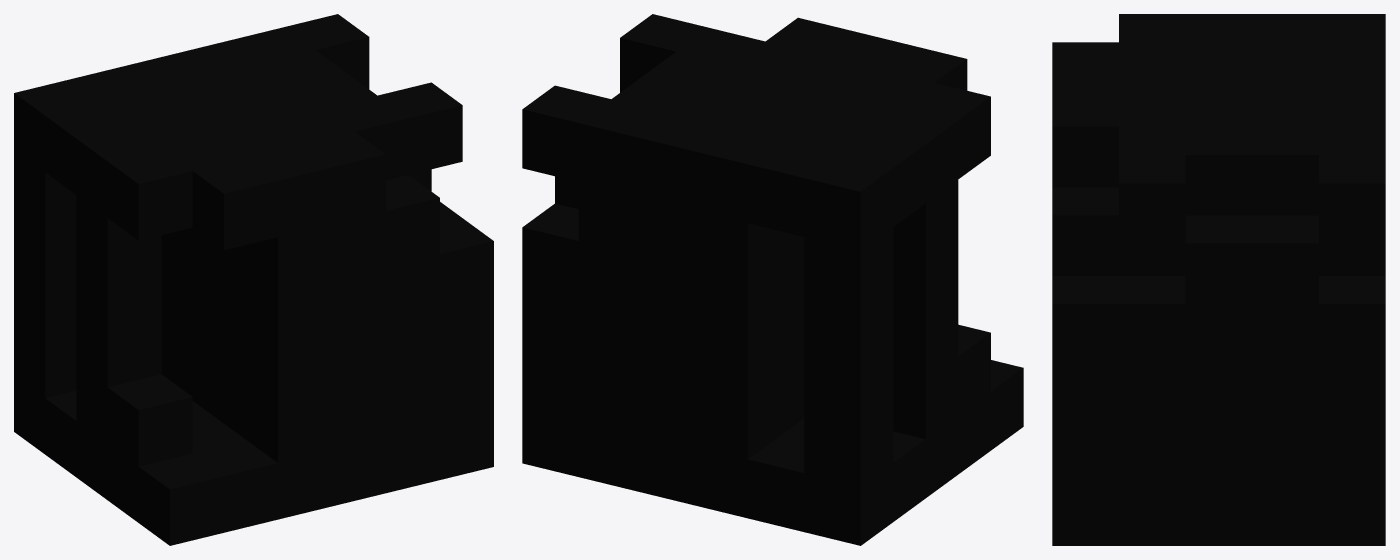
File: chaotic_right_boot.obj
3 renders of one model, left to right at view 1: azimuth 30°, elevation 25°; view 2: azimuth 150°, elevation 25°; view 3: azimuth 270°, elevation 25°, orthographic. The views are drawn at different scales.
Parts seen in each view (by area): view 1: chaotic_right_boot; view 2: chaotic_right_boot; view 3: chaotic_right_boot.
Boxes of the visible parts, bbox=[...] form: chaotic_right_boot: bbox=[14, 14, 493, 545]; chaotic_right_boot: bbox=[522, 14, 1023, 545]; chaotic_right_boot: bbox=[1052, 14, 1385, 545].
Bounding box in the file's own units: 6 × 6 × 5.
